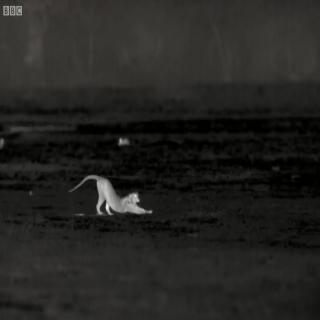Leopard: (73, 150, 155, 244)
